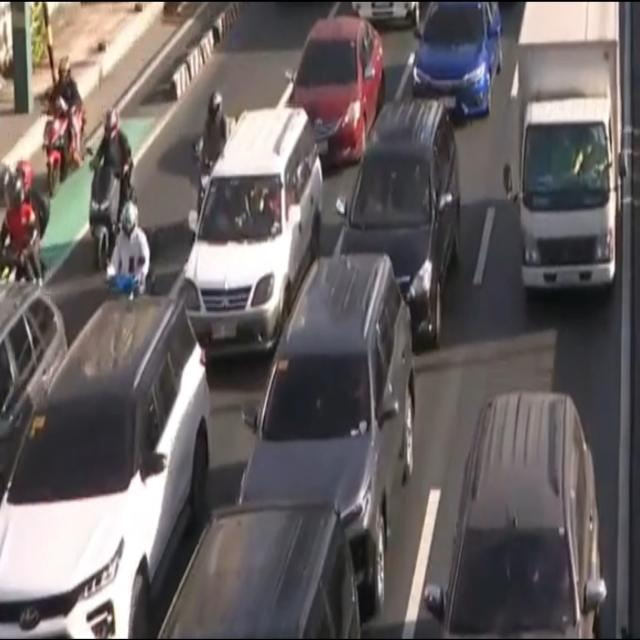Motorcycle: (89, 109, 133, 265), (0, 157, 46, 296), (43, 52, 85, 196), (191, 89, 235, 220), (106, 200, 153, 298)
SUV: (0, 299, 210, 640), (235, 255, 419, 614), (426, 391, 604, 640), (182, 109, 322, 360), (332, 102, 460, 346)
Sedan: (286, 18, 385, 172), (406, 0, 506, 119)
Truck: (500, 0, 628, 296)
